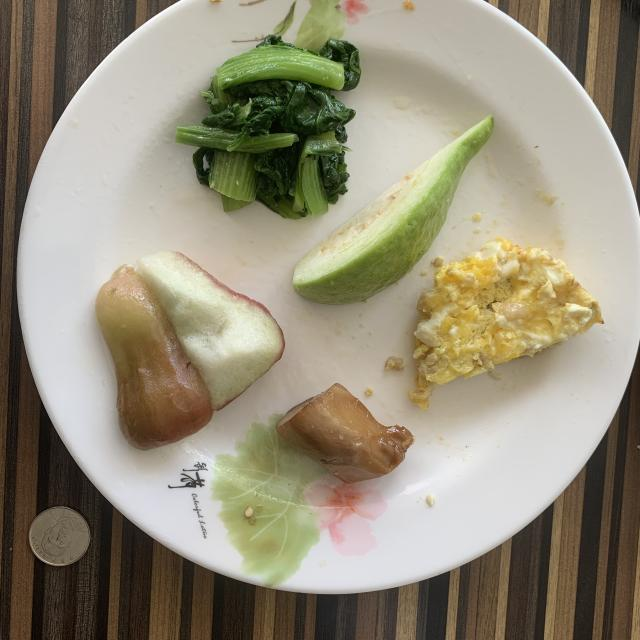coin: (29, 506, 90, 566)
guava -sliced-: (292, 116, 494, 304)
mustard greens: (176, 34, 361, 219)
